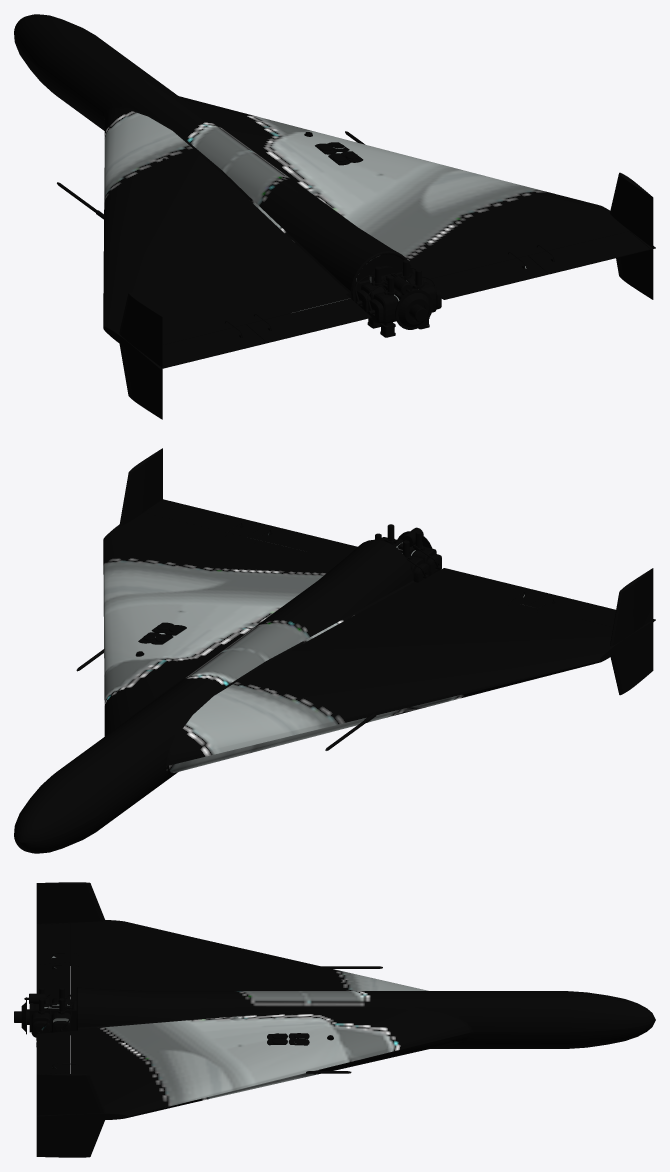
Rendered from geranium_2.obj.
3 renders of one model, top to bottom at view 1: azimuth 30°, elevation 25°; view 2: azimuth 150°, elevation 25°; view 3: azimuth 270°, elevation 25°, orthographic. The views are drawn at different scales.
Visible parts, largest first — view 1: Geranium2_Geranium2_0; view 2: Geranium2_Geranium2_0; view 3: Geranium2_Geranium2_0.
Boxes of the visible parts, left/top/right/bottom form: Geranium2_Geranium2_0: left=14, top=14, right=655, bottom=419; Geranium2_Geranium2_0: left=14, top=448, right=655, bottom=853; Geranium2_Geranium2_0: left=14, top=882, right=655, bottom=1157.
Size of the model in its own units: 2.5 by 0.4937 by 3.5.
